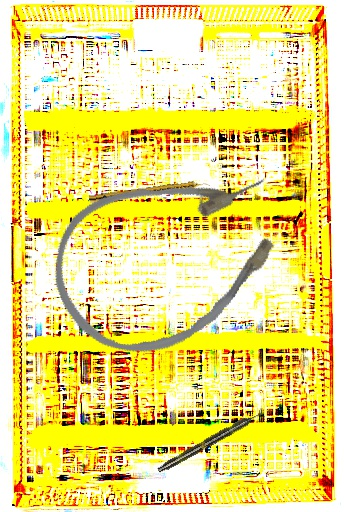Cannula: (31, 138, 310, 379)
Handpiece: (155, 409, 265, 475), (88, 178, 211, 207)
